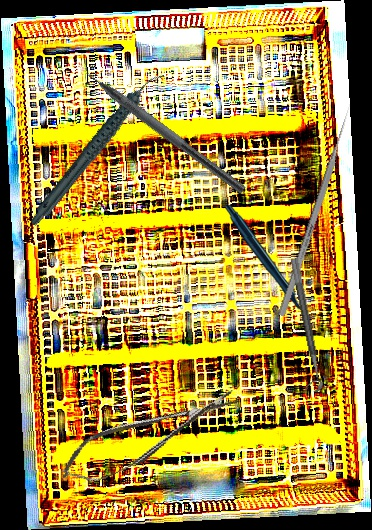Chopper: (68, 50, 256, 195)
Fixation Ring: (278, 257, 325, 395)
Handpiece: (3, 68, 191, 228), (221, 205, 312, 327)
Micro Scissor: (52, 379, 248, 493)
Pusher: (277, 103, 355, 317)
